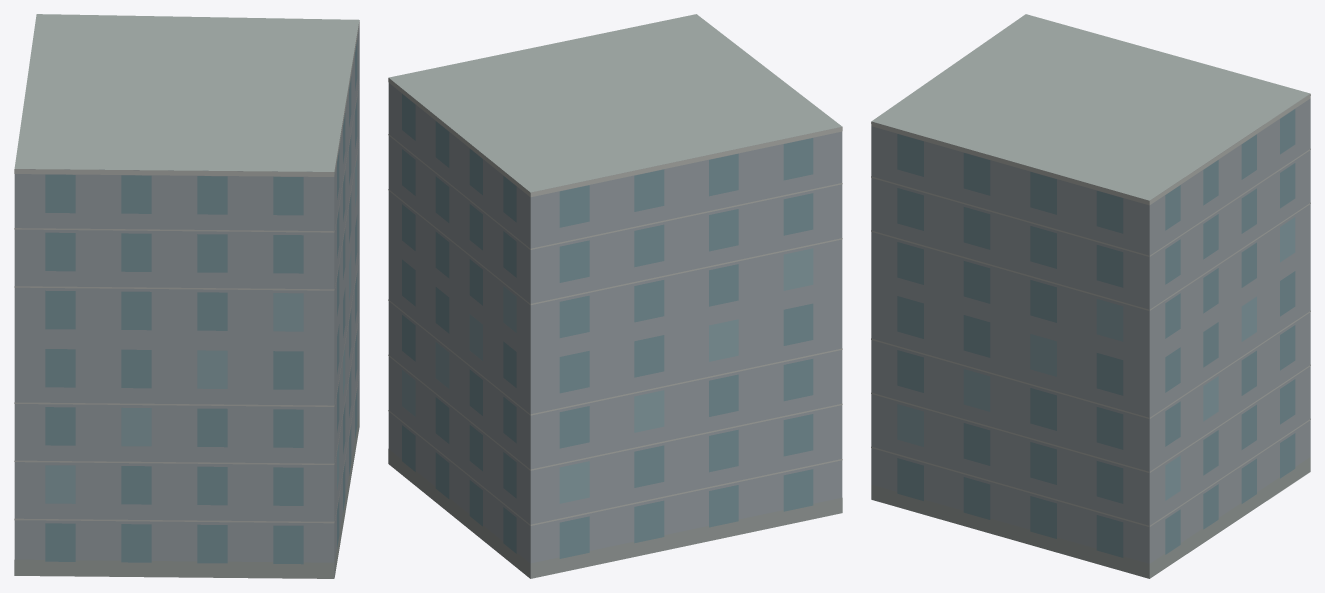
File: survey-upis-32790431.glb
The picture shows the model from 3 angles, left to right: view 1: azimuth 30°, elevation 25°; view 2: azimuth 150°, elevation 25°; view 3: azimuth 270°, elevation 25°; orthographic projection. The views are drawn at different scales.
Parts seen in each view (by area): view 1: survey-upis-32790431.tmp; view 2: survey-upis-32790431.tmp; view 3: survey-upis-32790431.tmp.
Boxes of the visible parts, x1,y1,x2,y2 form: survey-upis-32790431.tmp: (14, 14, 359, 578); survey-upis-32790431.tmp: (388, 14, 842, 578); survey-upis-32790431.tmp: (871, 14, 1310, 578).
Size of the model in its own units: 20.77 by 19.6 by 20.66.
